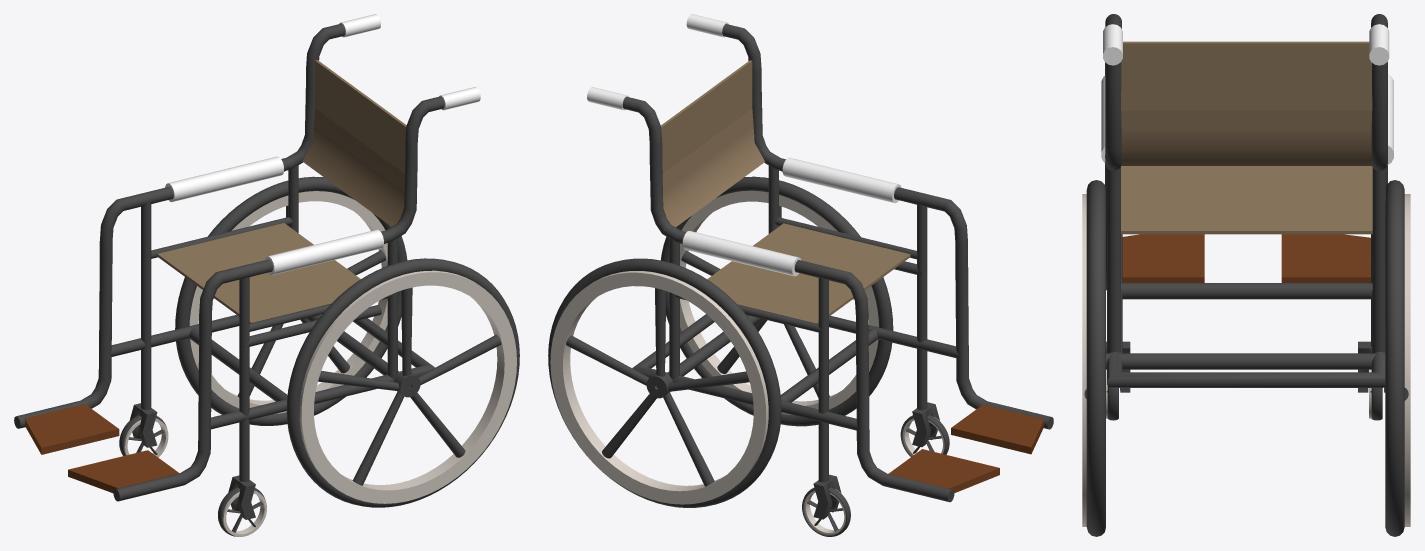
File: 84d2d350-f27b-47ba-adca-15c295b9941f.glb
The picture shows the model from 3 angles, left to right: view 1: azimuth 30°, elevation 25°; view 2: azimuth 150°, elevation 25°; view 3: azimuth 270°, elevation 25°; orthographic projection. The views are drawn at different scales.
Visible parts, largest first — view 1: Box002; view 2: Box002; view 3: Box002.
Part boxes in pixels (left/top/right/bottom): Box002: left=14, top=14, right=519, bottom=536; Box002: left=548, top=14, right=1053, bottom=536; Box002: left=1082, top=14, right=1410, bottom=536.
Bounding box in the file's own units: 22.88 × 20.9 × 11.83.
